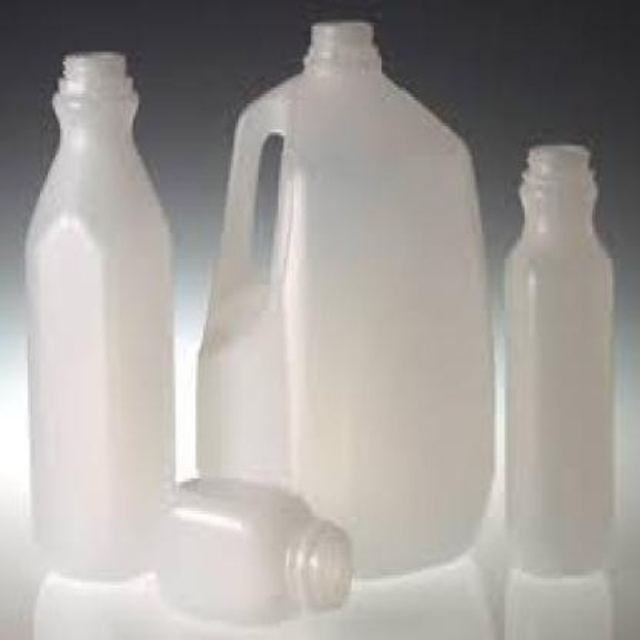trash: (198, 23, 491, 569), (26, 52, 171, 565), (505, 145, 612, 566)
